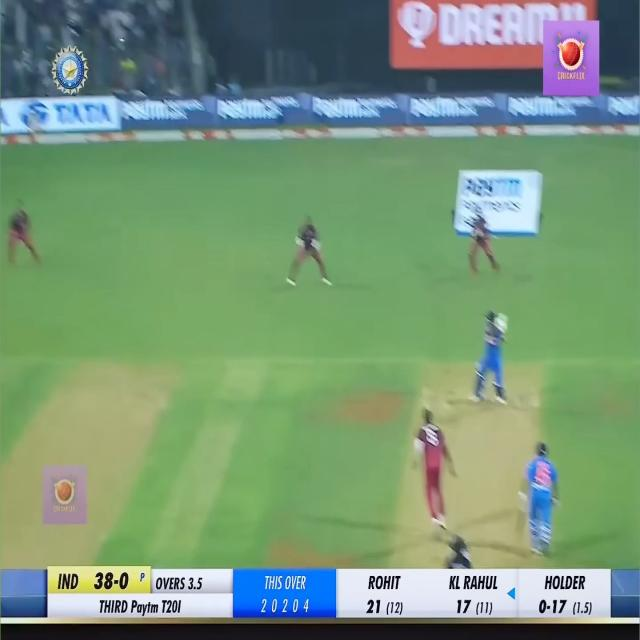fully_visible: (465, 162, 535, 239), (216, 96, 300, 146), (509, 86, 593, 131), (306, 92, 394, 134), (412, 88, 492, 126), (124, 95, 199, 134)
